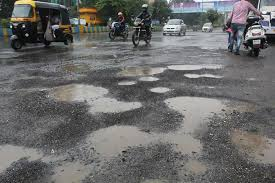potholes: (3, 53, 275, 166)
